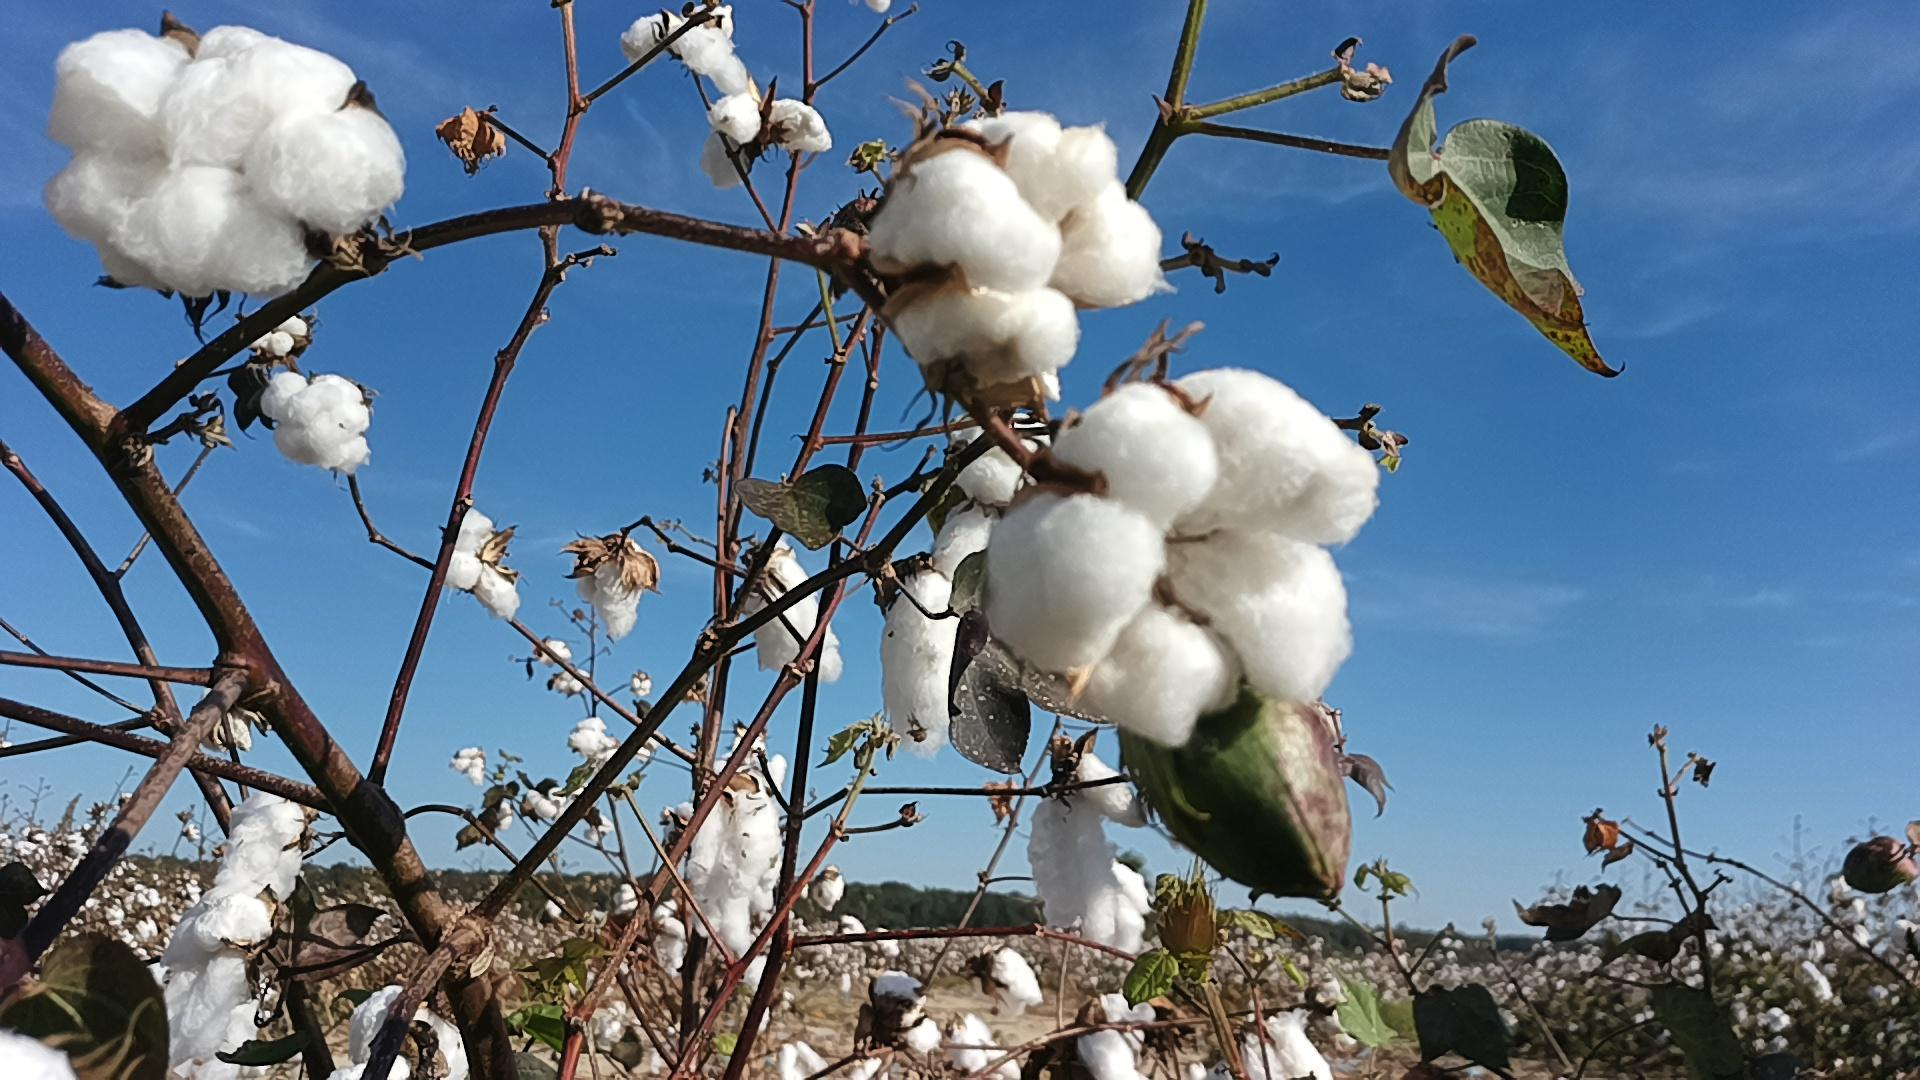cotton_ready: (981, 369, 1371, 750), (51, 24, 401, 306), (868, 111, 1174, 389), (160, 786, 311, 1080), (688, 753, 790, 968), (935, 410, 1052, 591), (1029, 793, 1146, 957), (881, 571, 964, 756), (324, 985, 472, 1080), (703, 91, 832, 189), (748, 551, 840, 680), (258, 373, 373, 476), (616, 9, 748, 88), (448, 506, 521, 618), (1233, 1007, 1328, 1080), (574, 551, 650, 638), (1072, 757, 1153, 823), (0, 1033, 78, 1080), (1071, 1026, 1138, 1080), (256, 316, 315, 360)
